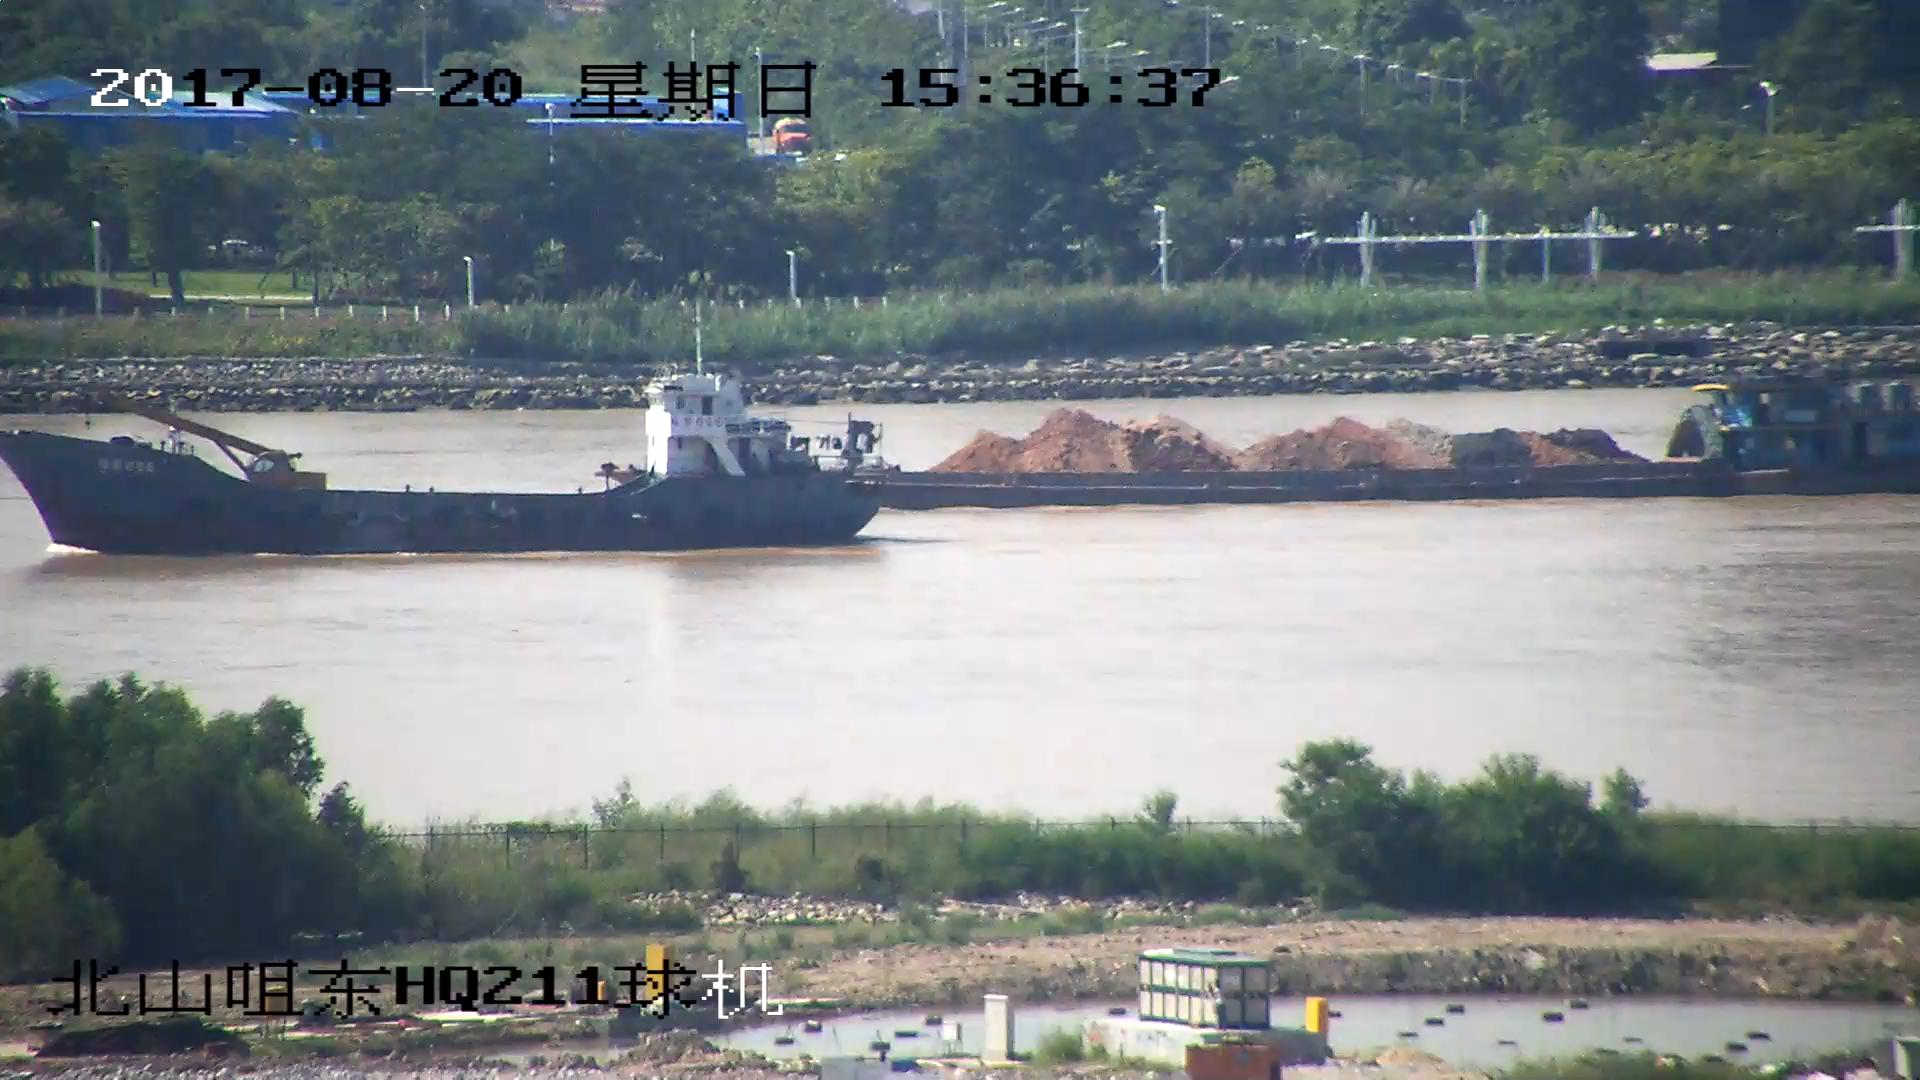general cargo ship: (1, 328, 884, 548)
ore carrier: (601, 374, 1920, 502)
